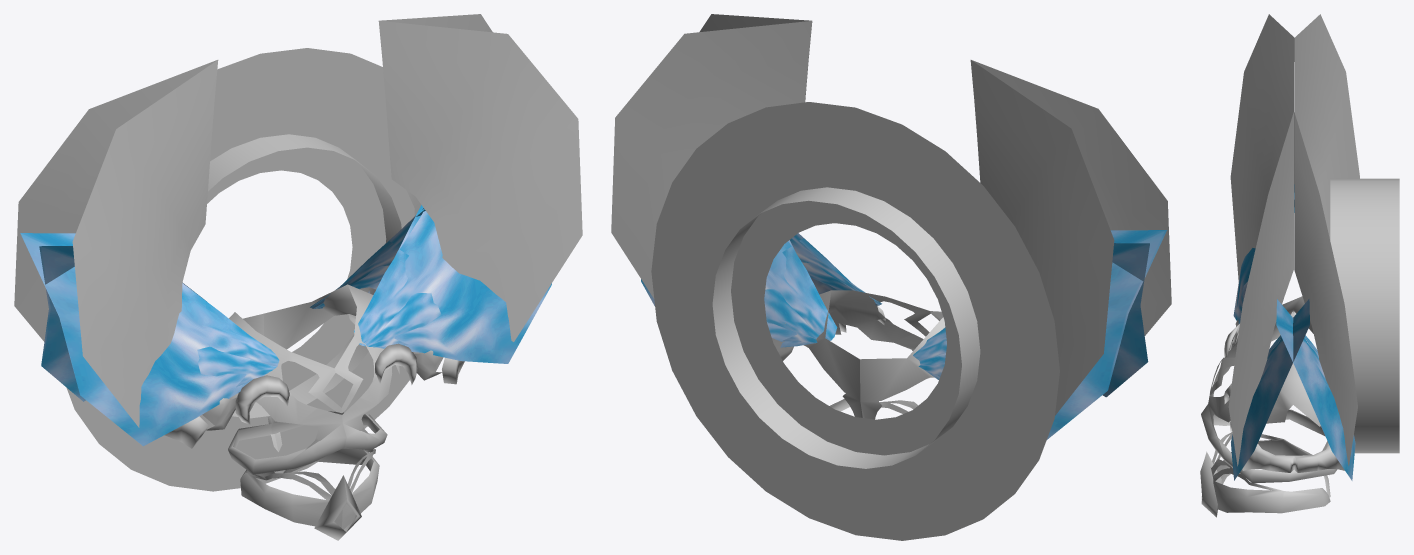
File: huangjinzhankai_EFFECT.FBX
3 views of the same model, side by side, from view 1: azimuth 30°, elevation 25°; view 2: azimuth 150°, elevation 25°; view 3: azimuth 270°, elevation 25° (orthographic). The views are drawn at different scales.
Parts seen in each view (by area): view 1: effect; view 2: effect; view 3: effect.
Part boxes in pixels (x1,y1,x2,y2): effect: [14, 14, 582, 540]; effect: [611, 14, 1171, 540]; effect: [1200, 14, 1399, 517].
Size of the model in its own units: 2.17 by 1.86 by 0.7523.
